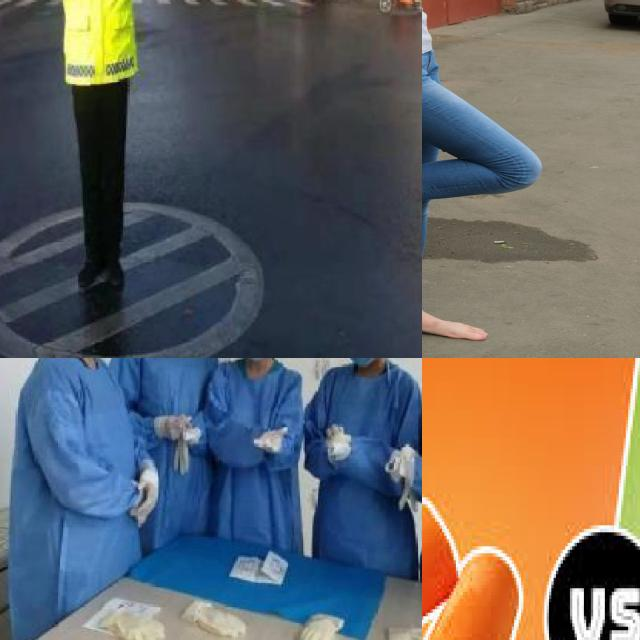Barefoots: (422, 309, 488, 340)
hand_glove: (129, 469, 163, 523), (252, 424, 291, 457), (160, 410, 192, 444), (323, 422, 349, 448)
person: (41, 0, 236, 327), (6, 358, 160, 630), (314, 358, 422, 579), (210, 358, 301, 547), (138, 358, 223, 526)
vest: (58, 0, 136, 83)
